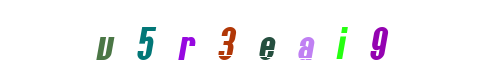3: (188, 0, 268, 80)
5: (143, 0, 223, 80)
9: (301, 0, 381, 80)
A: (268, 0, 348, 80)
E: (199, 0, 279, 80)
I: (273, 0, 353, 80)
R: (163, 0, 243, 80)
V: (106, 0, 186, 80)
